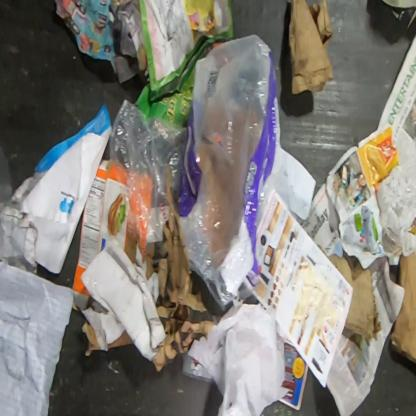cardboard: (72, 158, 127, 296), (316, 244, 382, 347), (288, 0, 334, 95), (390, 251, 415, 364)
soft_plastic: (109, 32, 281, 307)
